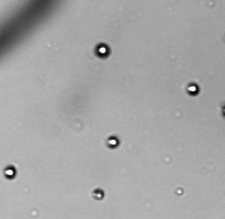Dead Cell: (91, 188, 105, 199)
Living Cell: (95, 43, 111, 57), (187, 81, 200, 96), (3, 165, 16, 179), (107, 136, 120, 149)
